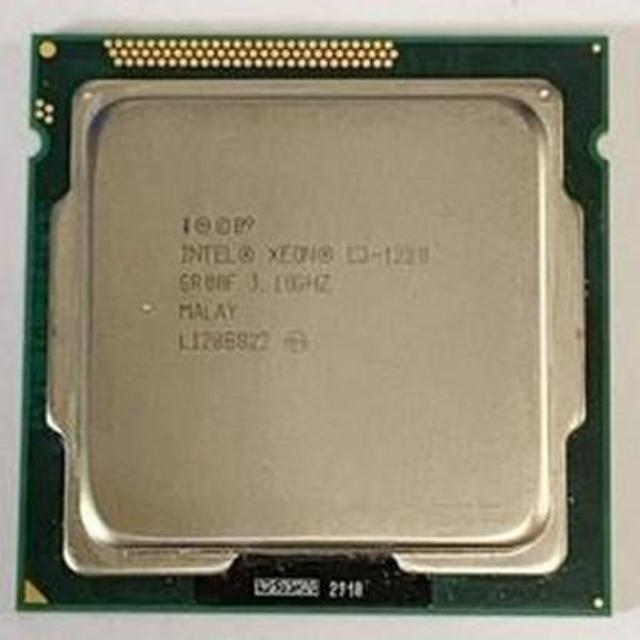CPU: (38, 39, 608, 618)
